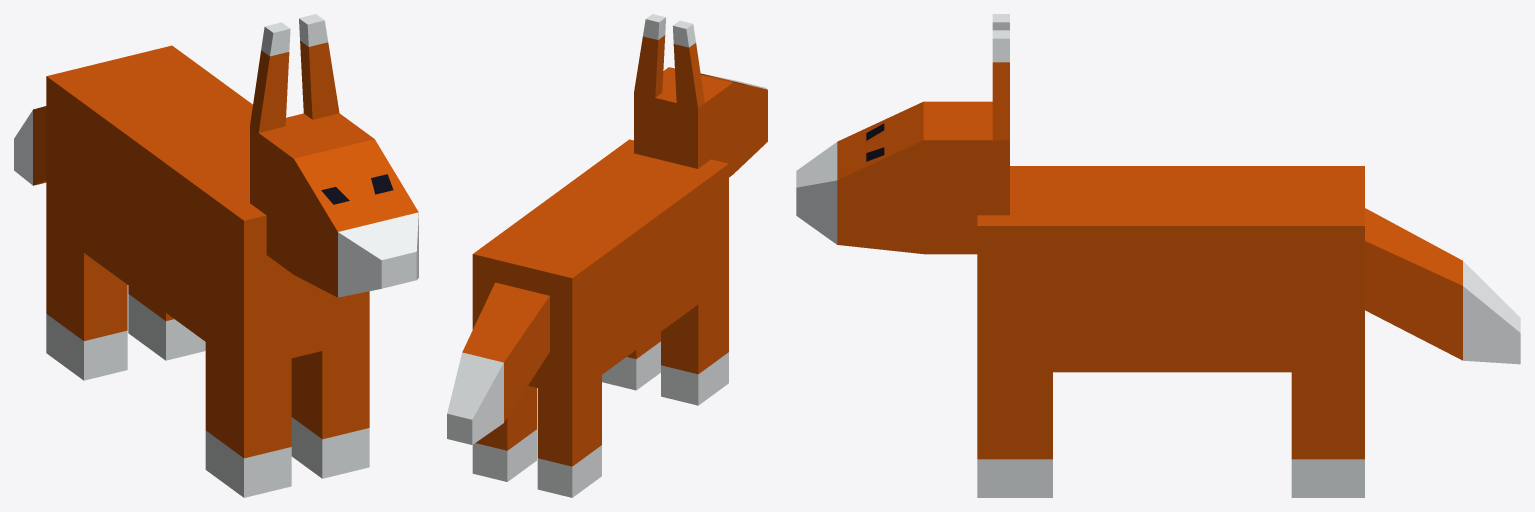
The model's file is fox.fbx.
3 renders of one model, left to right at view 1: azimuth 30°, elevation 25°; view 2: azimuth 150°, elevation 25°; view 3: azimuth 270°, elevation 25°, orthographic. The views are drawn at different scales.
Parts seen in each view (by area): view 1: fox; view 2: fox; view 3: fox.
Part boxes in pixels (<box>): fox: <box>14,14,418,497</box>; fox: <box>447,14,767,497</box>; fox: <box>796,14,1520,497</box>.
Size of the model in its own units: 43.51 by 149 by 221.
